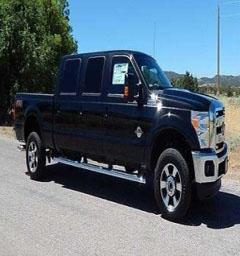car: (13, 41, 233, 234)
